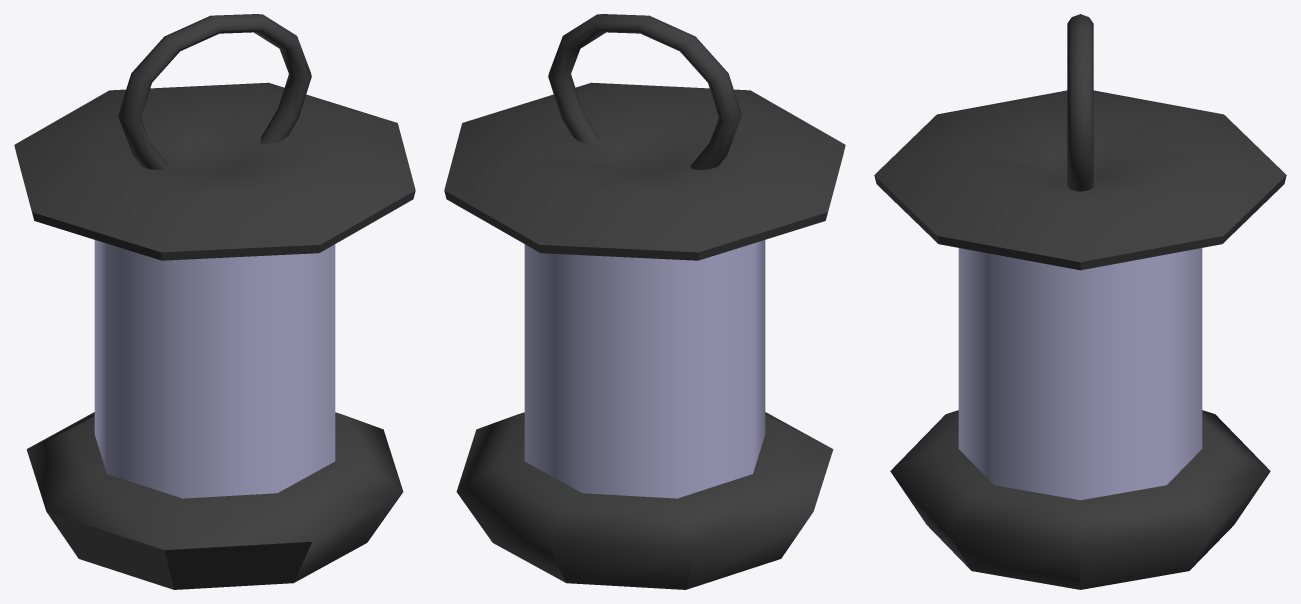
Rendered from Lantern.fbx.
The picture shows the model from 3 angles, left to right: view 1: azimuth 30°, elevation 25°; view 2: azimuth 150°, elevation 25°; view 3: azimuth 270°, elevation 25°; orthographic projection. The views are drawn at different scales.
Visible parts, largest first — view 1: pPipe1, pCube2, pCube1, pTorus1; view 2: pPipe1, pCube2, pCube1, pTorus1; view 3: pPipe1, pCube2, pCube1, pTorus1.
Part boxes in pixels (x1,y1,x2,y2): pPipe1: [94, 240, 335, 498]; pCube2: [14, 82, 415, 260]; pCube1: [26, 412, 403, 589]; pTorus1: [118, 14, 311, 170]; pPipe1: [524, 240, 765, 498]; pCube2: [444, 82, 845, 260]; pCube1: [456, 412, 833, 589]; pTorus1: [548, 14, 741, 170]; pPipe1: [958, 248, 1202, 500]; pCube2: [874, 90, 1286, 270]; pCube1: [890, 410, 1270, 589]; pTorus1: [1067, 14, 1093, 191].
Bounding box in the file's own units: 7.16 × 9.53 × 7.16.
